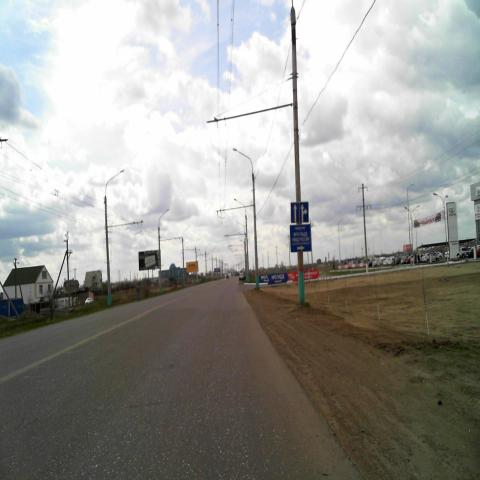5_15_2_2: (290, 201, 308, 223)
